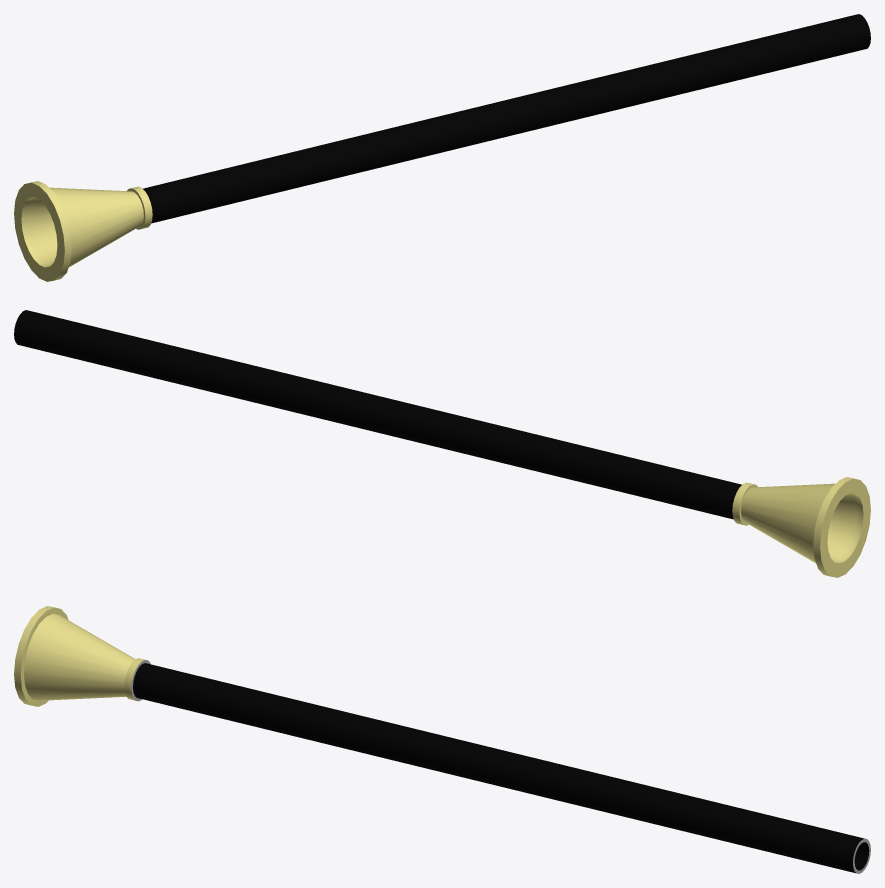
3 views of the same model, one above another, from view 1: azimuth 30°, elevation 25°; view 2: azimuth 150°, elevation 25°; view 3: azimuth 330°, elevation 25° (orthographic).
Parts seen in each view (by area): view 1: pCylinder28; view 2: pCylinder28; view 3: pCylinder28.
Part boxes in pixels (left/top/right/bottom): pCylinder28: left=14, top=14, right=870, bottom=281; pCylinder28: left=14, top=310, right=870, bottom=577; pCylinder28: left=14, top=606, right=870, bottom=873.
Size of the model in its own units: 36.5 by 3.91 by 3.91.
